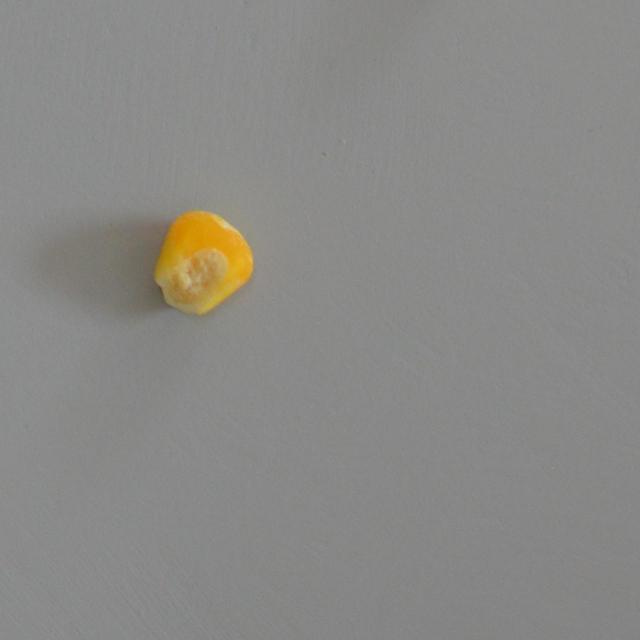no_desgerminado: (150, 207, 257, 321)
